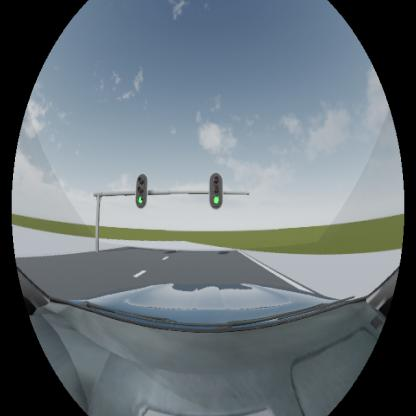Green Light: (210, 172, 223, 209), (136, 173, 148, 208)
